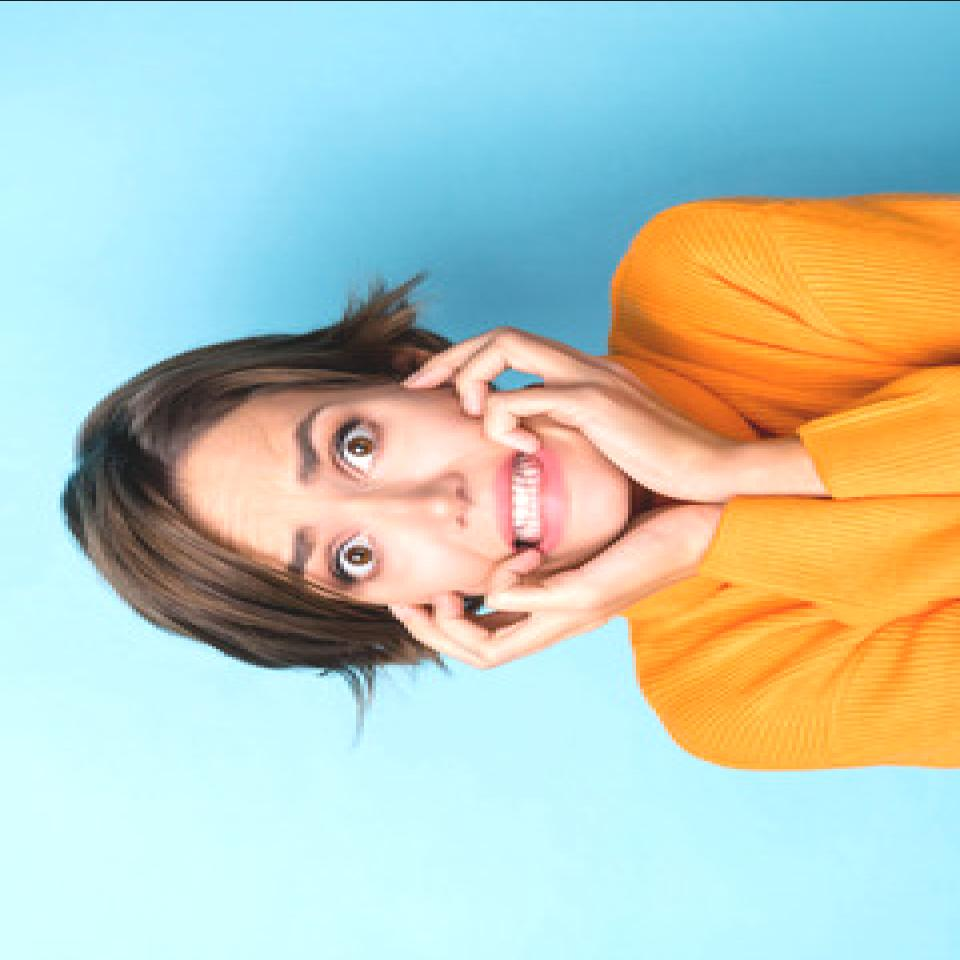Scared: (194, 326, 650, 668)
